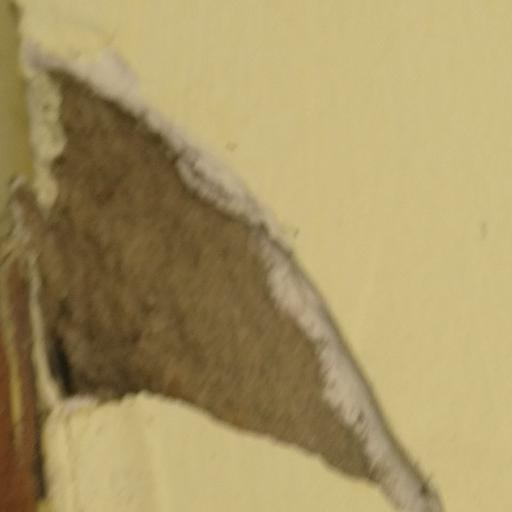spalling: (19, 27, 441, 512)
